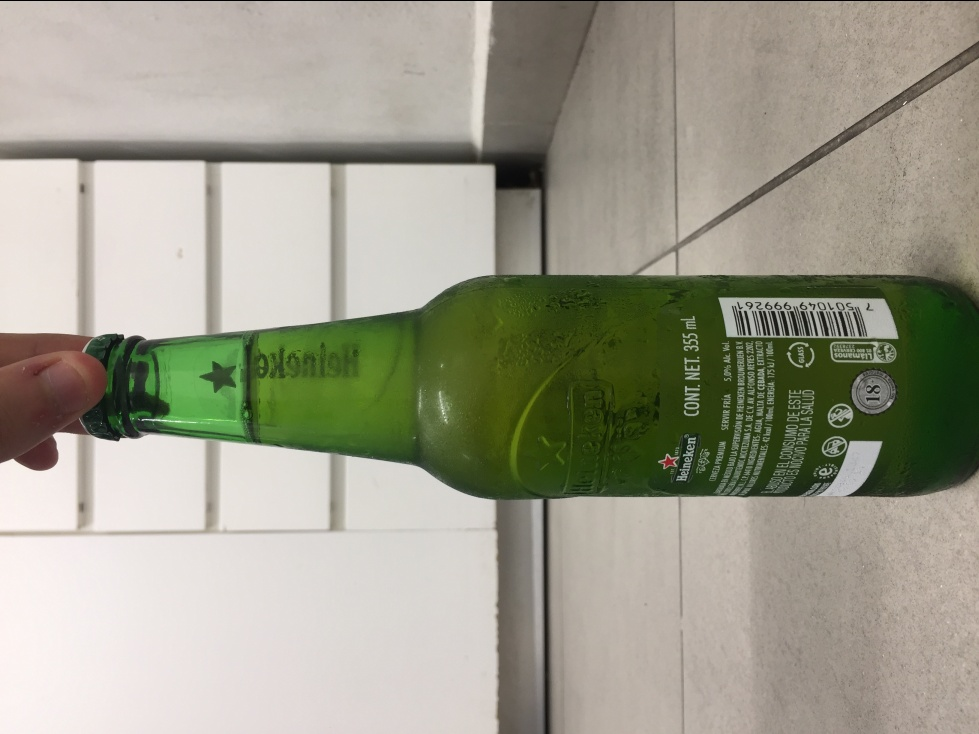heineken: (69, 272, 979, 501)
